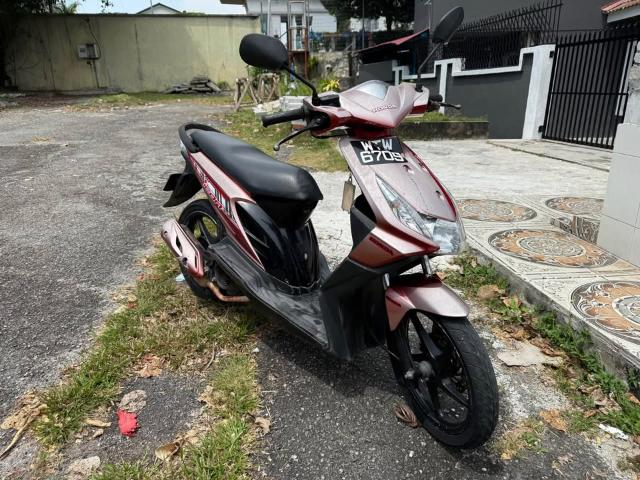License_Plate: (349, 137, 409, 166)
motorcycle: (160, 7, 501, 451)
